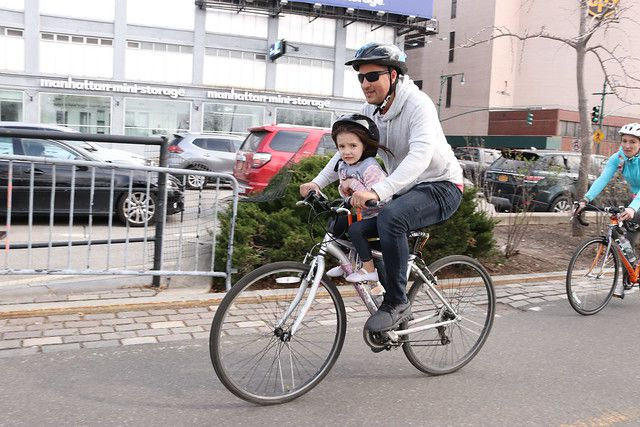helmet: (344, 41, 406, 104), (331, 112, 380, 164), (617, 122, 640, 158)
